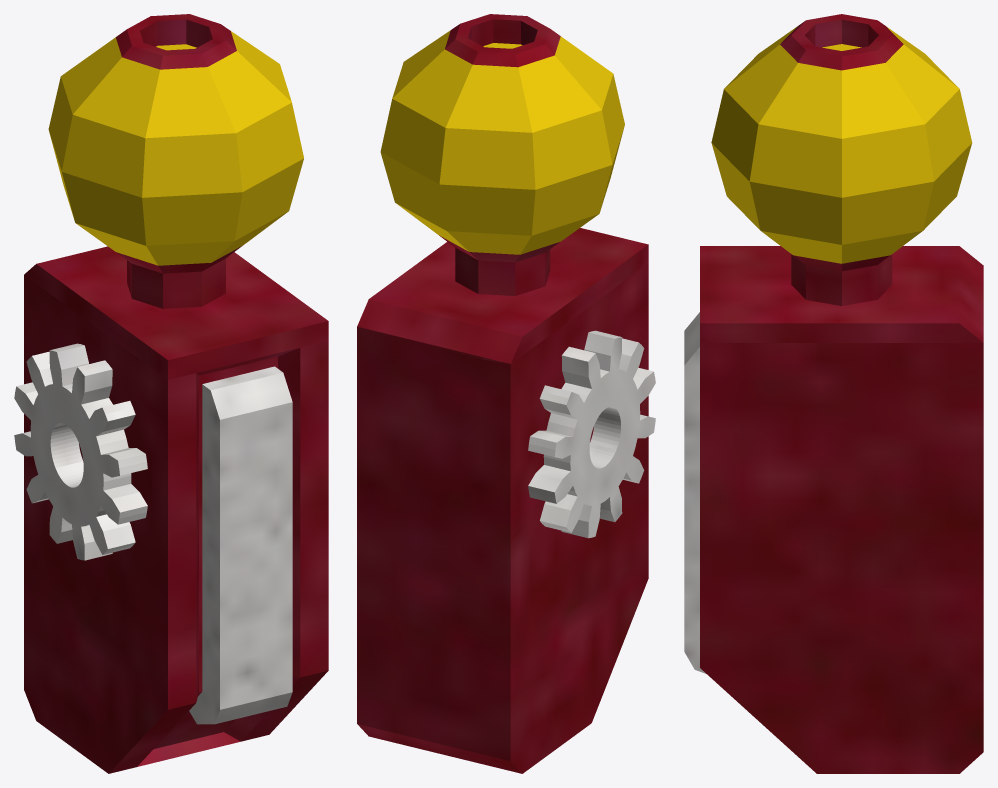
File: hand-lamp-2.fbx
3 renders of one model, left to right at view 1: azimuth 30°, elevation 25°; view 2: azimuth 150°, elevation 25°; view 3: azimuth 270°, elevation 25°, orthographic. The views are drawn at different scales.
Parts seen in each view (by area): view 1: Cube.029, Cube.030; view 2: Cube.029; view 3: Cube.029, Cube.030.
Part boxes in pixels (box(x1,y1,x2,y2)): Cube.029: box(14, 14, 328, 773); Cube.030: box(189, 366, 292, 724); Cube.029: box(357, 14, 655, 773); Cube.029: box(700, 14, 983, 773); Cube.030: box(684, 312, 705, 673).
Size of the model in its own units: 10.97 by 32.47 by 12.59.
